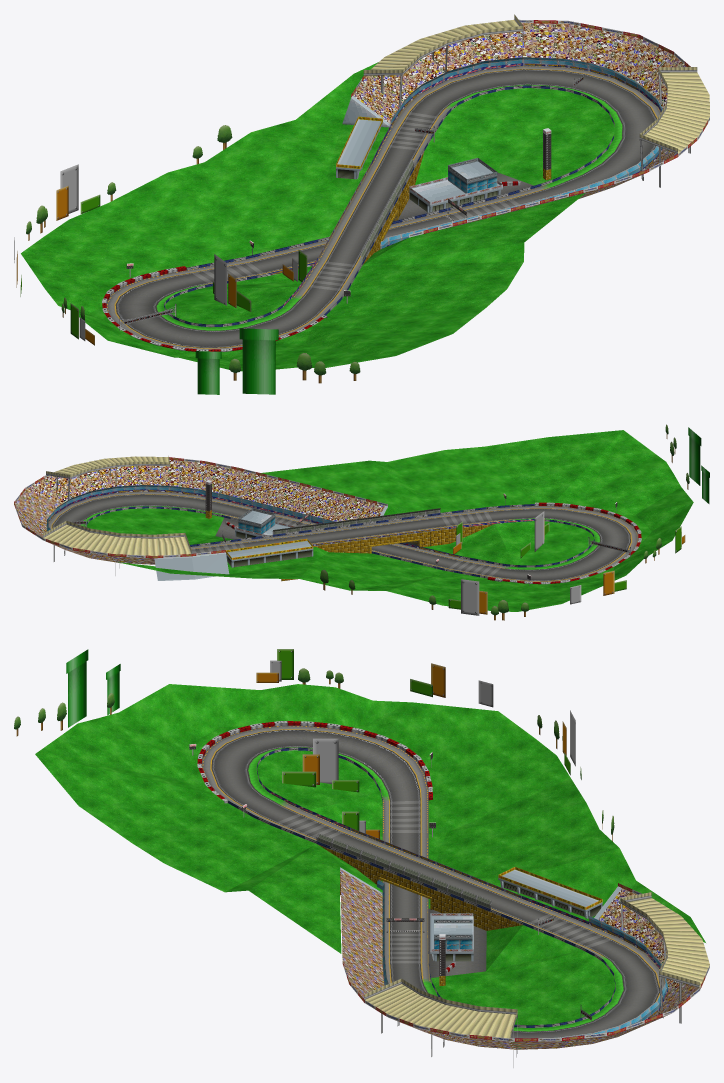
Rendered from cross_course.obj.
The picture shows the model from 3 angles, top to bottom: view 1: azimuth 30°, elevation 25°; view 2: azimuth 150°, elevation 25°; view 3: azimuth 270°, elevation 25°; orthographic projection. The views are drawn at different scales.
Parts seen in each view (by area): view 1: polygon23, polygon20, polygon13, polygon15, polygon22, polygon12, polygon21, polygon6, polygon16, polygon11, polygon17, polygon18 (+6 smaller); view 2: polygon23, polygon13, polygon20, polygon15, polygon22, polygon12, polygon16, polygon18, polygon11, polygon10, polygon21, polygon14 (+6 smaller); view 3: polygon23, polygon20, polygon15, polygon13, polygon22, polygon12, polygon6, polygon11, polygon10, polygon16, polygon21, polygon19 (+6 smaller).
Part boxes in pixels (<box>): polygon23: <box>21,62,614,371</box>; polygon20: <box>115,69,656,348</box>; polygon13: <box>353,23,686,234</box>; polygon15: <box>14,19,709,345</box>; polygon22: <box>106,65,660,349</box>; polygon12: <box>195,14,697,394</box>; polygon21: <box>119,31,690,330</box>; polygon6: <box>191,112,519,290</box>; polygon16: <box>164,85,614,327</box>; polygon11: <box>336,119,502,212</box>; polygon17: <box>156,84,622,330</box>; polygon18: <box>119,78,574,318</box>; polygon23: <box>85,430,693,611</box>; polygon13: <box>14,459,384,564</box>; polygon20: <box>52,494,630,581</box>; polygon15: <box>14,456,685,615</box>; polygon22: <box>48,491,638,582</box>; polygon12: <box>43,427,709,555</box>; polygon16: <box>85,504,594,578</box>; polygon18: <box>86,506,630,580</box>; polygon11: <box>226,516,313,567</box>; polygon10: <box>205,510,493,581</box>; polygon21: <box>46,467,630,585</box>; polygon14: <box>46,489,534,558</box>; polygon23: <box>35,684,705,1025</box>; polygon20: <box>211,729,659,1038</box>; polygon15: <box>189,649,709,1041</box>; polygon13: <box>340,869,699,1049</box>; polygon22: <box>201,725,665,1001</box>; polygon12: <box>66,649,699,1036</box>; polygon6: <box>276,800,611,963</box>; polygon11: <box>430,869,602,961</box>; polygon10: <box>317,844,522,985</box>; polygon16: <box>228,747,615,1027</box>; polygon21: <box>192,749,681,1067</box>; polygon19: <box>197,721,455,973</box>.
Size of the model in its own units: 471 by 72.69 by 381.
Materials: 24 (24 with a texture image).
